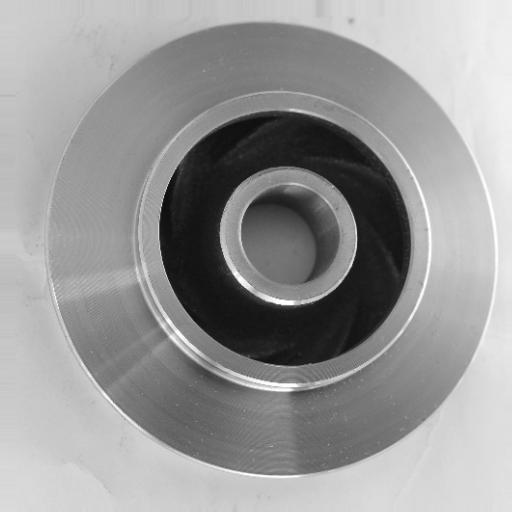polished_casting: (44, 19, 497, 477)
